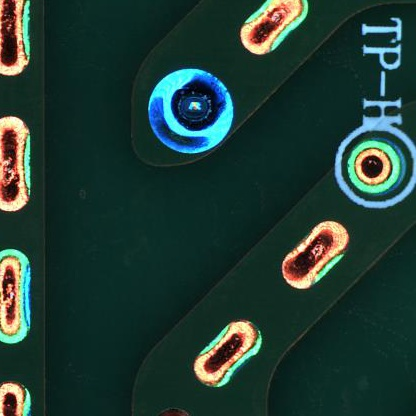spot: (139, 60, 238, 159), (344, 136, 405, 198)
